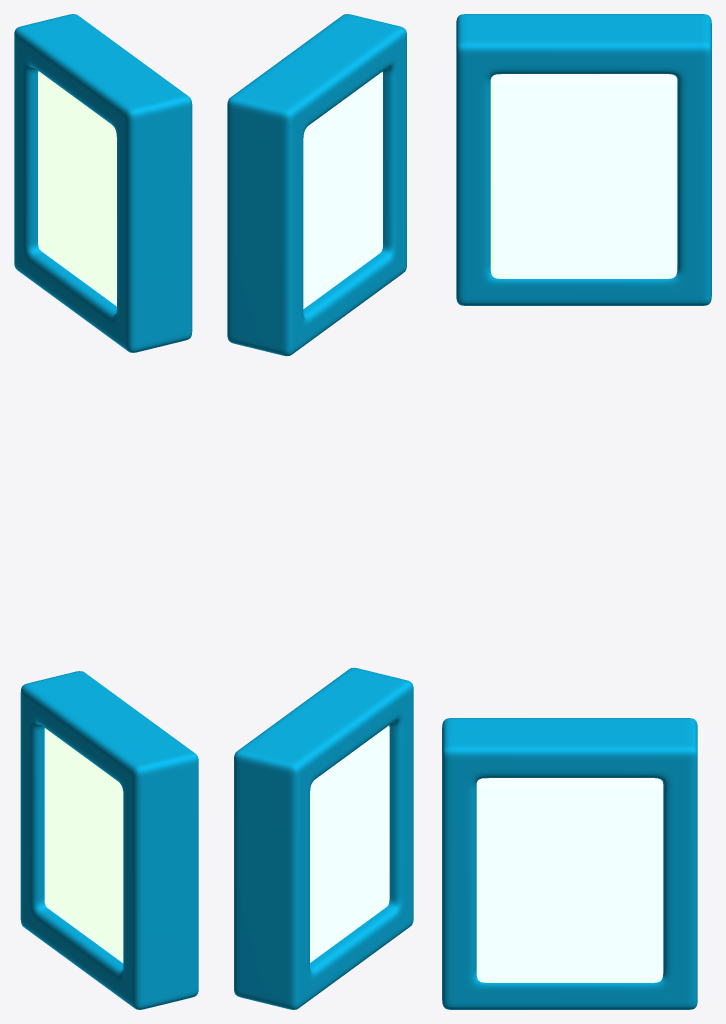
The model's file is SM_Clay_Window_03.fbx.
The picture shows the model from 3 angles, left to right: view 1: azimuth 30°, elevation 25°; view 2: azimuth 150°, elevation 25°; view 3: azimuth 270°, elevation 25°; orthographic projection. The views are drawn at different scales.
Visible parts, largest first — view 1: SM_Clay_Window_03; view 2: SM_Clay_Window_03; view 3: SM_Clay_Window_03.
Part boxes in pixels (box(x1,y1,x2,y2)): SM_Clay_Window_03: box(14, 14, 198, 1009); SM_Clay_Window_03: box(227, 14, 413, 1009); SM_Clay_Window_03: box(442, 14, 711, 1009).
Bounding box in the file's own units: 0.258 × 3.06 × 0.7738.
